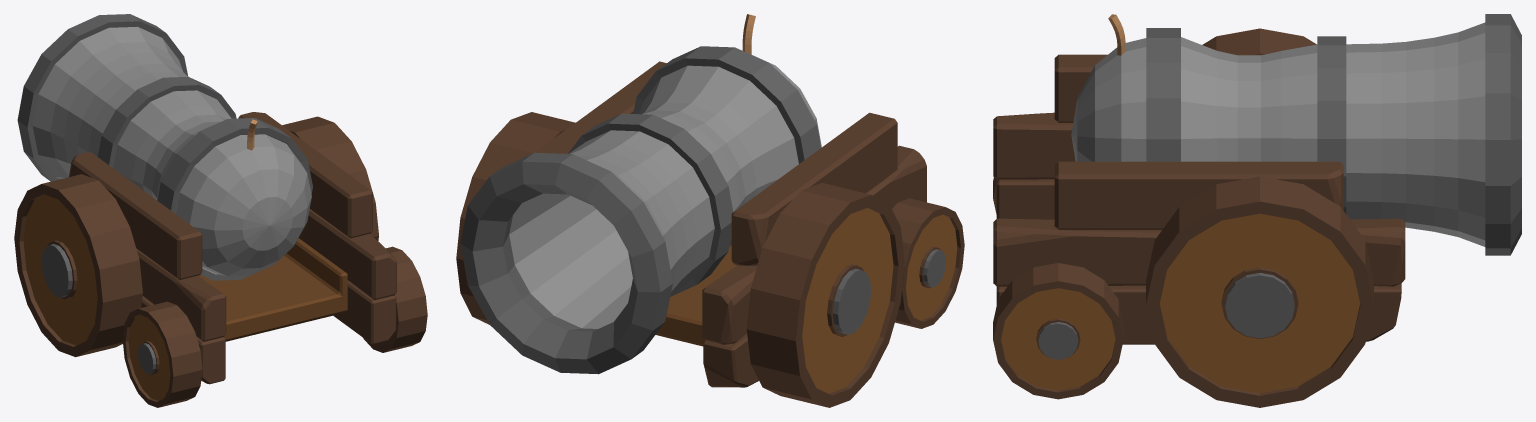
The model's file is Cannon.fbx.
3 renders of one model, left to right at view 1: azimuth 30°, elevation 25°; view 2: azimuth 150°, elevation 25°; view 3: azimuth 270°, elevation 25°, orthographic. The views are drawn at different scales.
Visible parts, largest first — view 1: Wheels, Cannon_Platform, Cannon_Front, Cannon_Back; view 2: Cannon_Front, Wheels, Cannon_Platform, Cannon_Back; view 3: Cannon_Front, Wheels, Cannon_Platform, Cannon_Back.
Part boxes in pixels (<box>): Wheels: <box>14,116,427,407</box>; Cannon_Platform: <box>69,112,396,384</box>; Cannon_Front: <box>17,14,312,280</box>; Cannon_Back: <box>176,119,311,276</box>; Cannon_Front: <box>460,46,820,374</box>; Wheels: <box>456,112,964,407</box>; Cannon_Platform: <box>535,61,926,387</box>; Cannon_Back: <box>742,14,821,147</box>; Cannon_Front: <box>1146,14,1521,255</box>; Wheels: <box>993,28,1373,407</box>; Cannon_Platform: <box>993,54,1405,344</box>; Cannon_Back: <box>1071,14,1146,161</box>.
Bounding box in the file's own units: 427 × 344 × 538.
